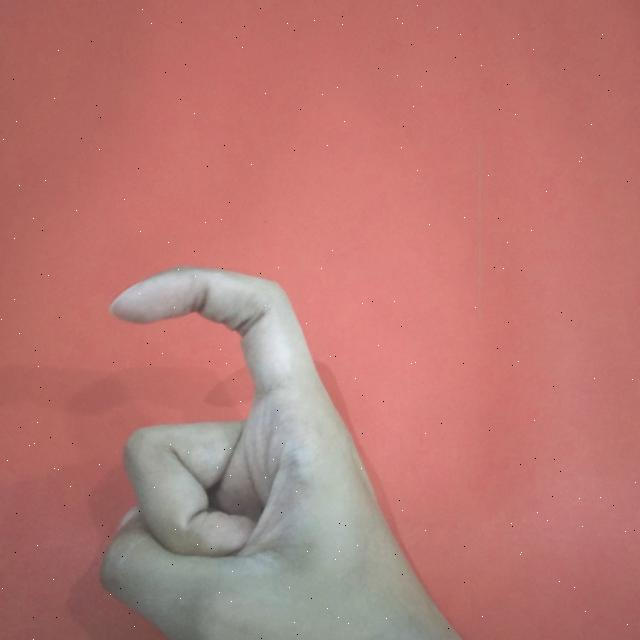X: (88, 260, 470, 640)
